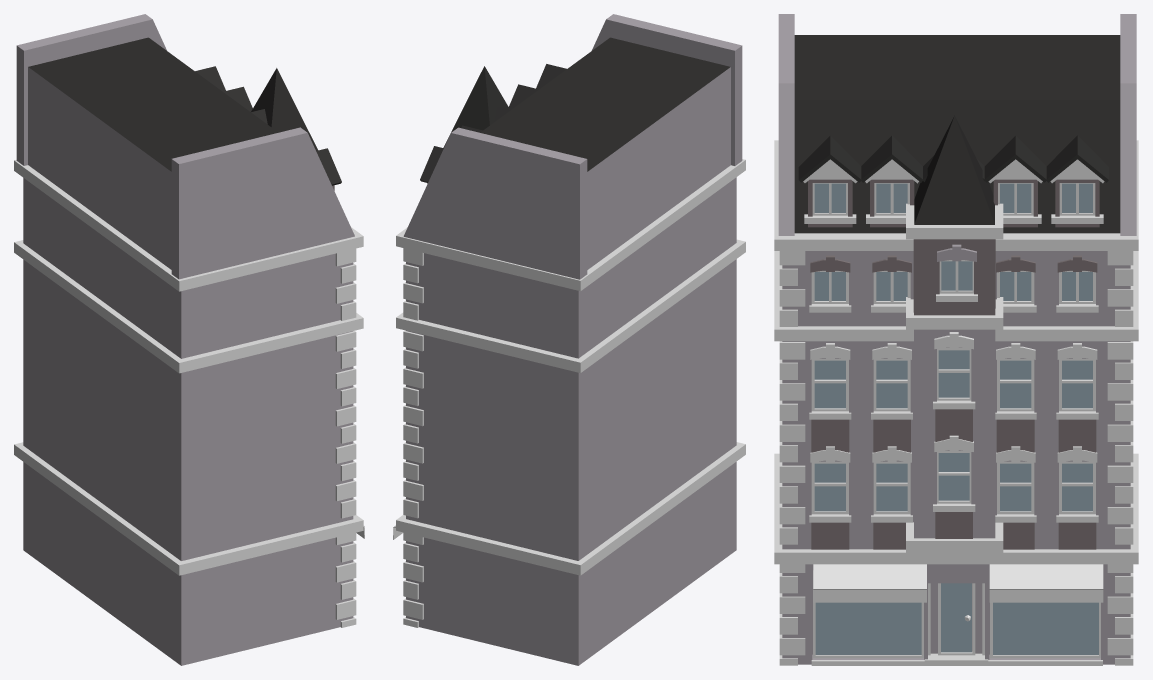
File: grey-house.fbx
3 views of the same model, side by side, from view 1: azimuth 30°, elevation 25°; view 2: azimuth 150°, elevation 25°; view 3: azimuth 270°, elevation 25° (orthographic). The views are drawn at different scales.
Visible parts, largest first — view 1: Cube.093, Cube.113, Cube.210, Cube.119, Cube.077, Cube.149; view 2: Cube.093, Cube.113, Cube.210, Cube.119, Cube.077, Cube.149; view 3: Cube.093, Cube.210, Cube.112, Cube.077, Cube.078, Cube.113, Cube.067, Plane.003, Cube.119, Cube.072, Plane.005, Cube.149.
Boxes of the visible parts, <box> form: Cube.093: <box>14,14,363,665</box>; Cube.113: <box>335,330,356,518</box>; Cube.210: <box>251,68,318,150</box>; Cube.119: <box>335,532,356,627</box>; Cube.077: <box>195,66,341,190</box>; Cube.149: <box>335,248,356,320</box>; Cube.093: <box>396,14,745,665</box>; Cube.113: <box>403,330,423,518</box>; Cube.210: <box>443,66,509,148</box>; Cube.119: <box>403,532,423,627</box>; Cube.077: <box>420,64,566,183</box>; Cube.149: <box>403,248,423,320</box>; Cube.093: <box>774,14,1138,664</box>; Cube.210: <box>906,115,1003,552</box>; Cube.112: <box>809,343,1098,549</box>; Cube.077: <box>798,135,1108,227</box>; Cube.078: <box>811,570,1102,665</box>; Cube.113: <box>779,341,1133,544</box>; Cube.067: <box>809,255,1098,312</box>; Plane.003: <box>813,564,1103,589</box>; Cube.119: <box>779,564,1133,665</box>; Cube.072: <box>924,583,988,665</box>; Plane.005: <box>813,589,1103,602</box>; Cube.149: <box>779,251,1133,326</box>.
Size of the model in its own units: 755 by 1708 by 1014.
